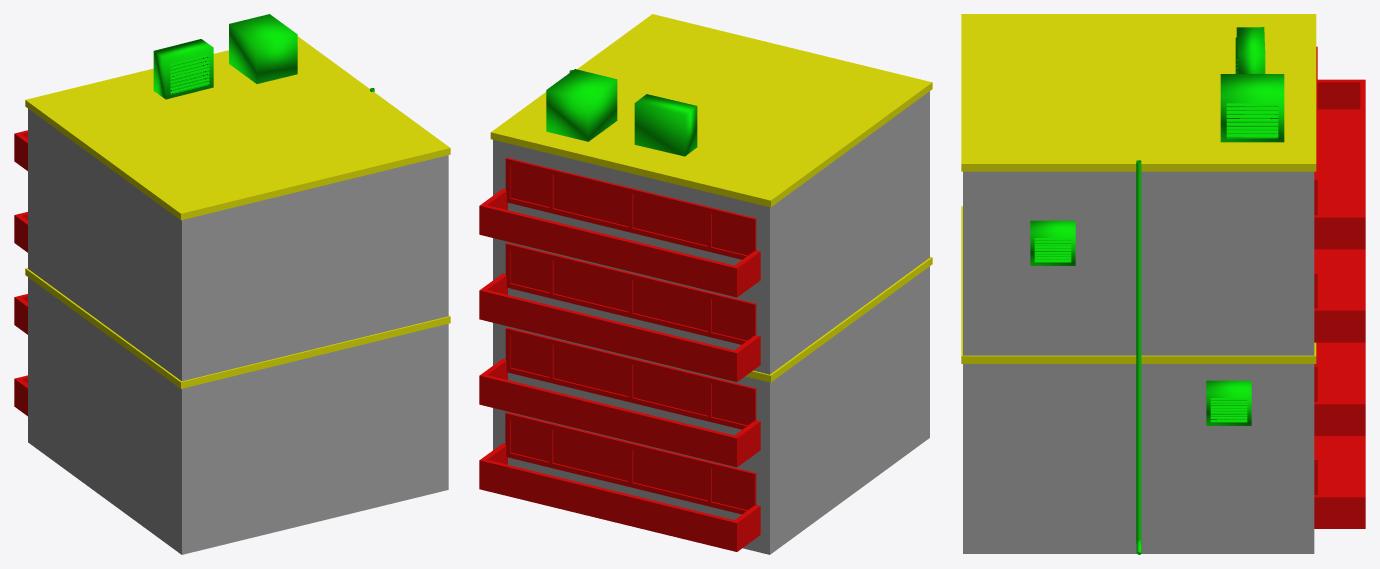
File: Hotel_1_prebuilt_3.fbx
3 views of the same model, side by side, from view 1: azimuth 30°, elevation 25°; view 2: azimuth 150°, elevation 25°; view 3: azimuth 270°, elevation 25° (orthographic). The views are drawn at different scales.
Parts seen in each view (by area): view 1: Base_TwoStory10; view 2: Base_TwoStory10; view 3: Base_TwoStory10.
Part boxes in pixels (<box>): Base_TwoStory10: <box>14,14,450,554</box>; Base_TwoStory10: <box>479,14,932,554</box>; Base_TwoStory10: <box>961,14,1365,554</box>.
Bounding box in the file's own units: 1096 × 1369 × 1152.
